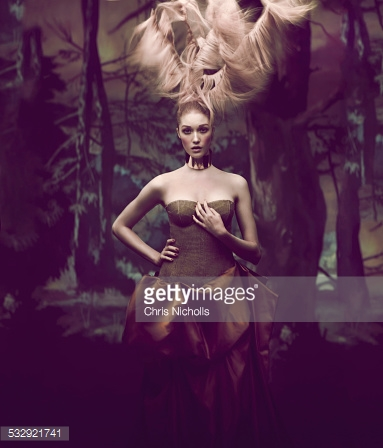em pe: (105, 84, 269, 298)
